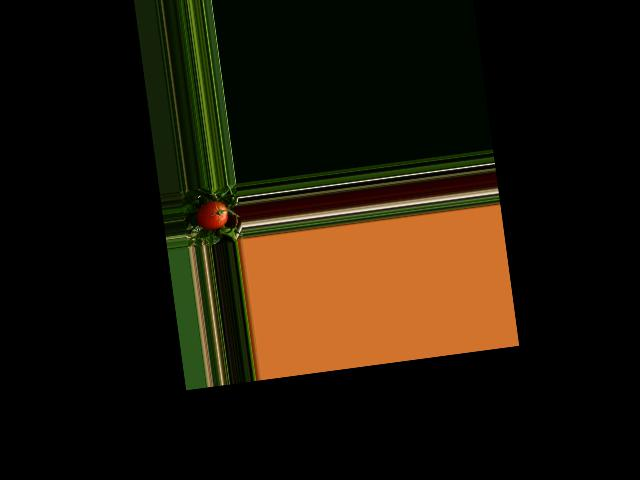tomato: (195, 199, 229, 230)
